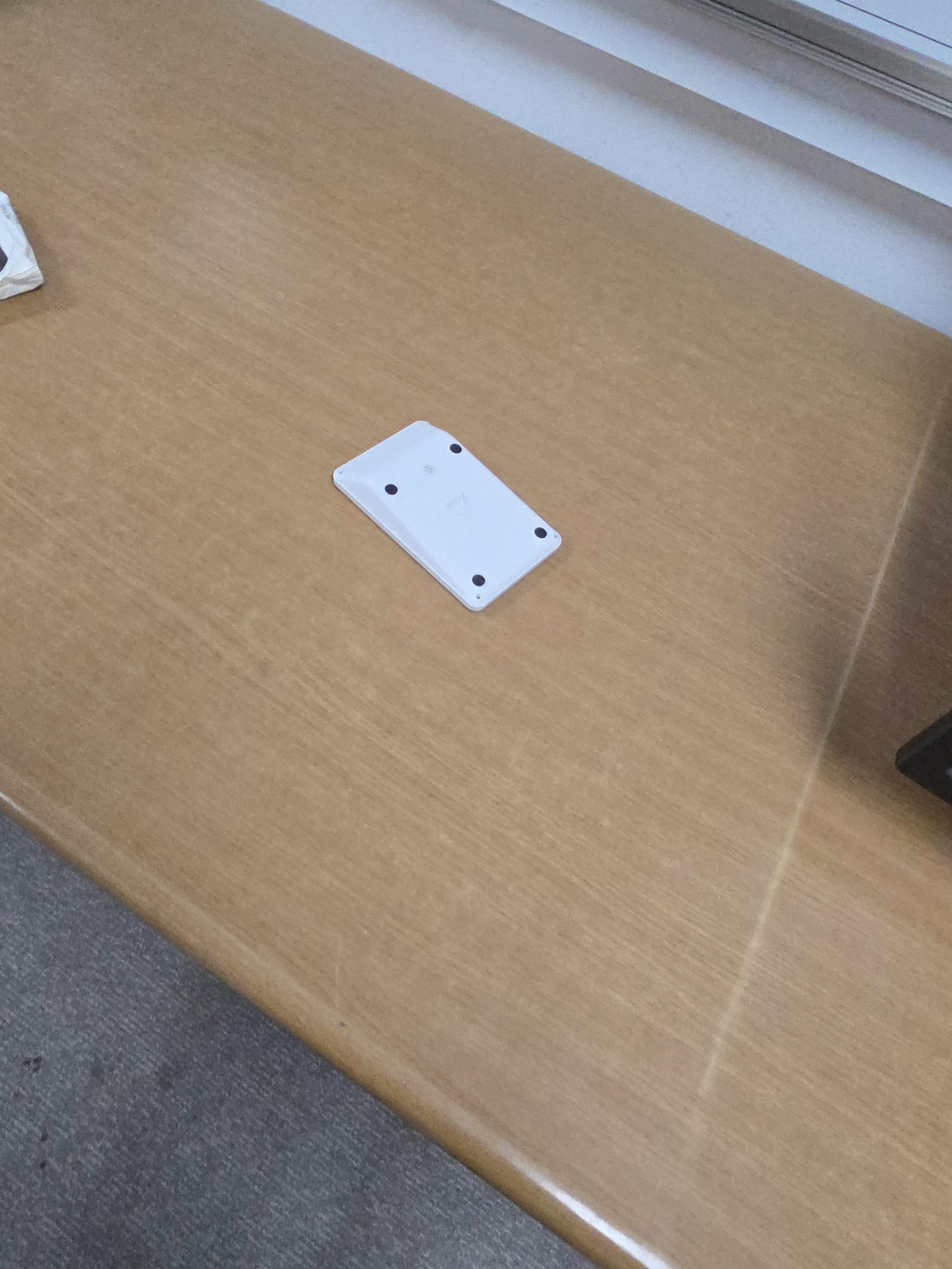calculator: (333, 420, 562, 612)
tissue: (0, 189, 45, 301)
